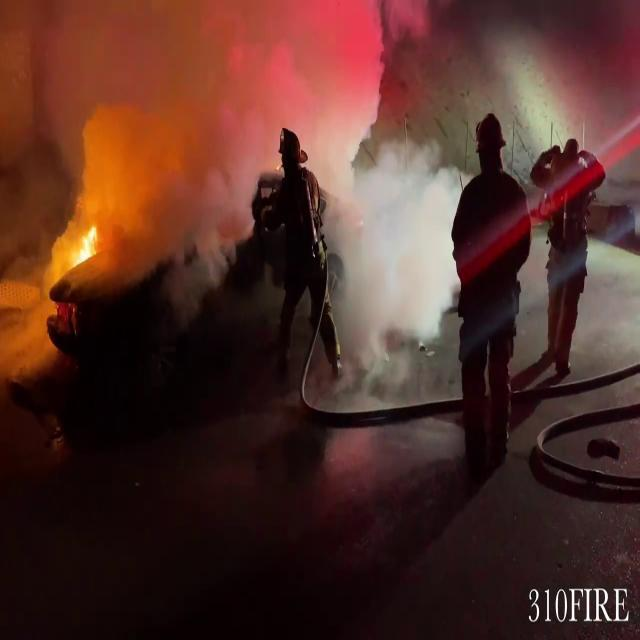Fire: (70, 208, 104, 266)
Smoke: (1, 0, 354, 326), (326, 132, 473, 376)
